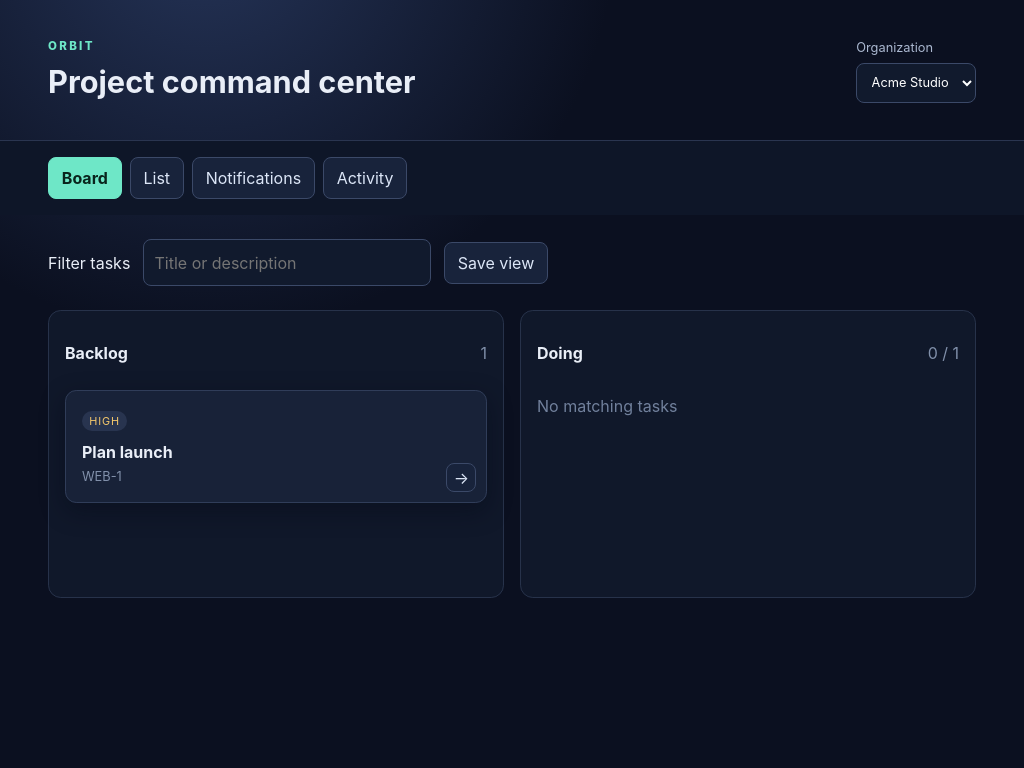
it: board UI › offers complete keyboard move controls and filter feedback
Expected: the element "high Plan launch WEB-1 →" is shown, x1=65 y1=390 x2=487 y2=503
Type "no match" into the field labelled "Filter tasks" at (287, 263), box x1=143 y1=240 x2=431 y2=286
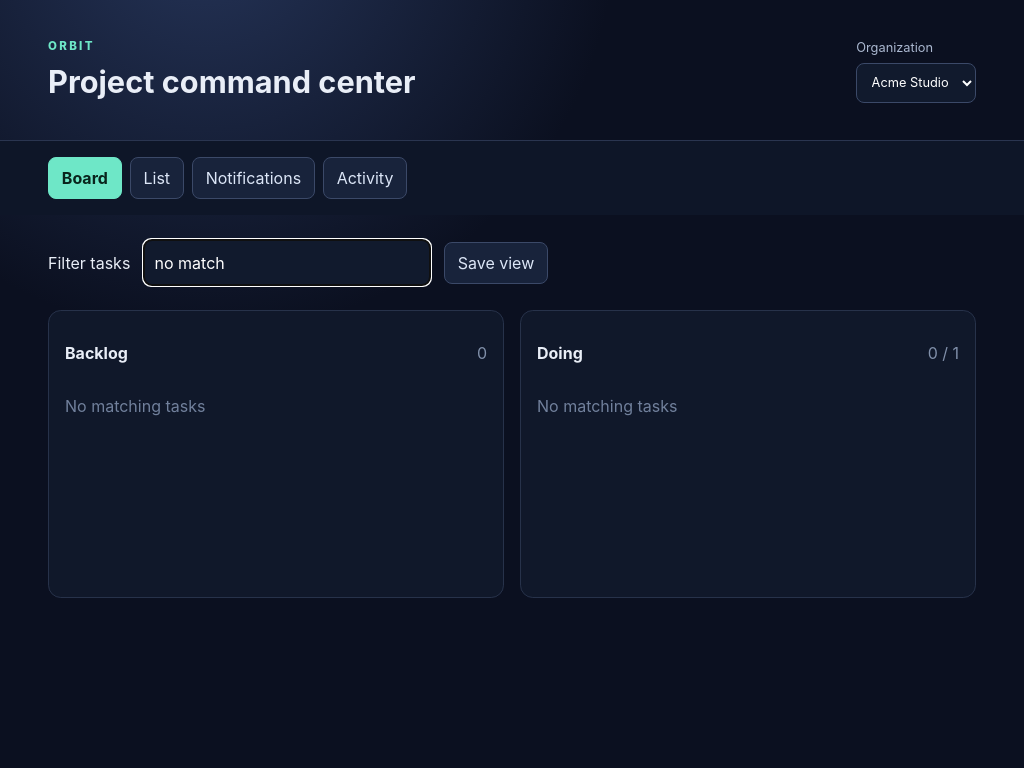
Now the text "No matching tasks" is shown 2 times, box x1=65 y1=396 x2=205 y2=416; x1=537 y1=396 x2=677 y2=416
